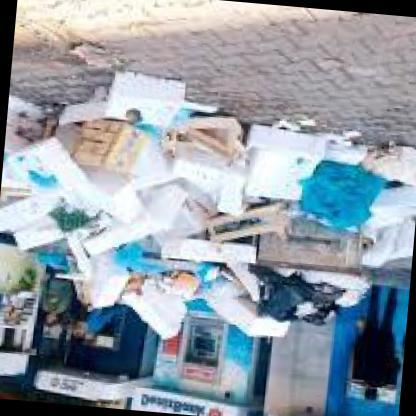Garbage: (3, 53, 192, 260), (178, 100, 415, 246), (138, 260, 368, 355), (74, 213, 144, 314), (152, 230, 260, 266)
